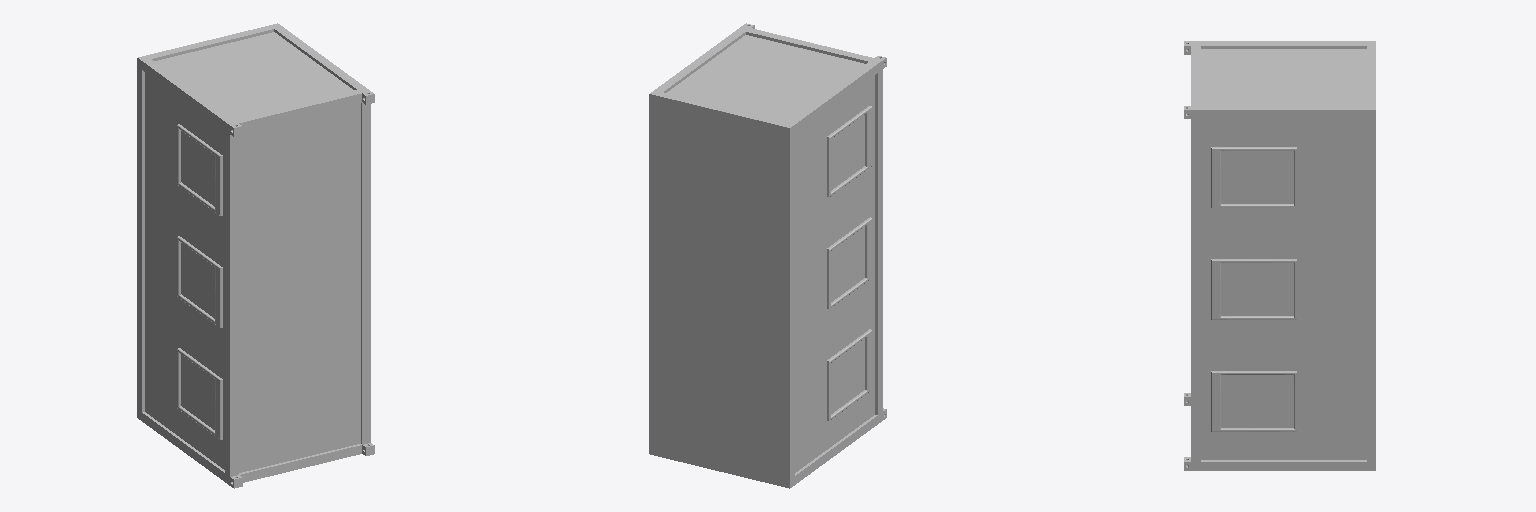
File: 170607_Container.obj
3 renders of one model, left to right at view 1: azimuth 30°, elevation 25°; view 2: azimuth 150°, elevation 25°; view 3: azimuth 270°, elevation 25°, orthographic.
Visible parts, largest first — view 1: Container Container; view 2: Container Container; view 3: Container Container.
Boxes of the visible parts, x1=… form: Container Container: x1=137, y1=23, x2=374, y2=488; Container Container: x1=649, y1=23, x2=886, y2=488; Container Container: x1=1184, y1=41, x2=1375, y2=470.
Bounding box in the file's own units: 2.45 × 6 × 2.91.